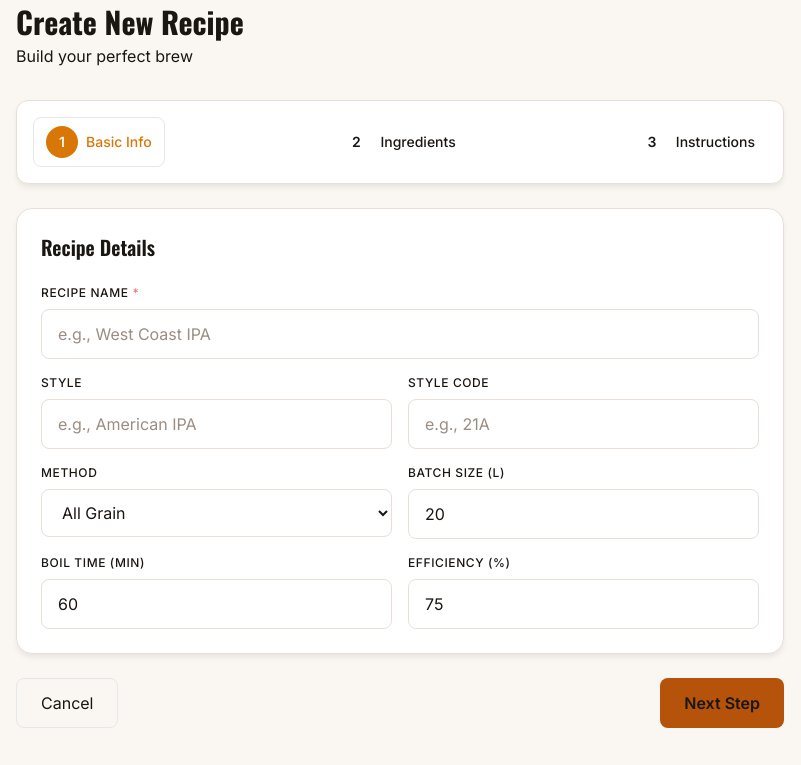
Test: RecipeForm Page › Create Mode › has add grain button
(page scrolled)
Click the button "Next Step".
click(722, 703)  # box top-left (660, 678), bottom-right (784, 728)
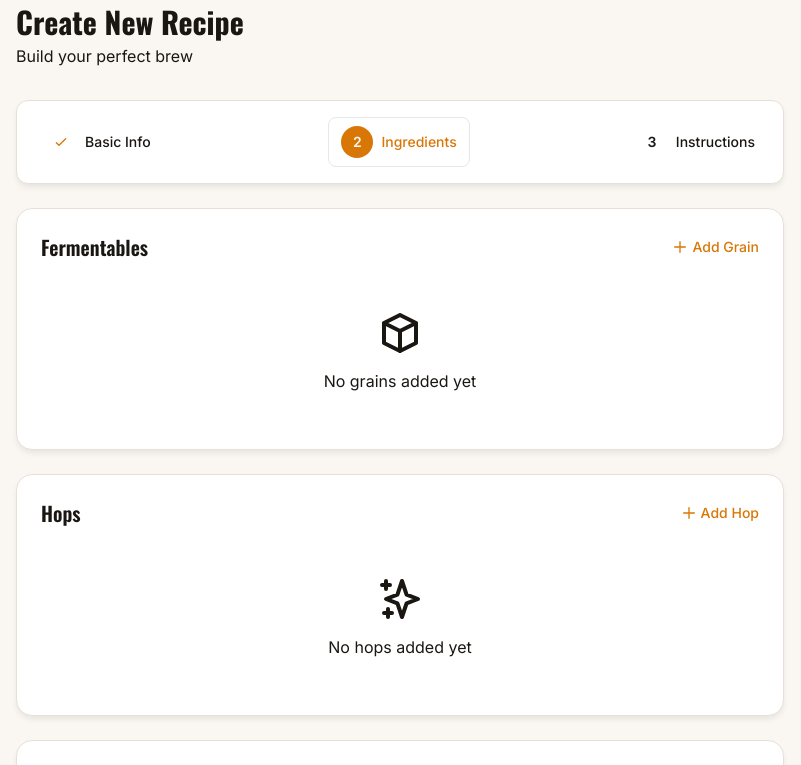
Now the button "Add Grain" is shown, box top-left (672, 237), bottom-right (759, 257)
